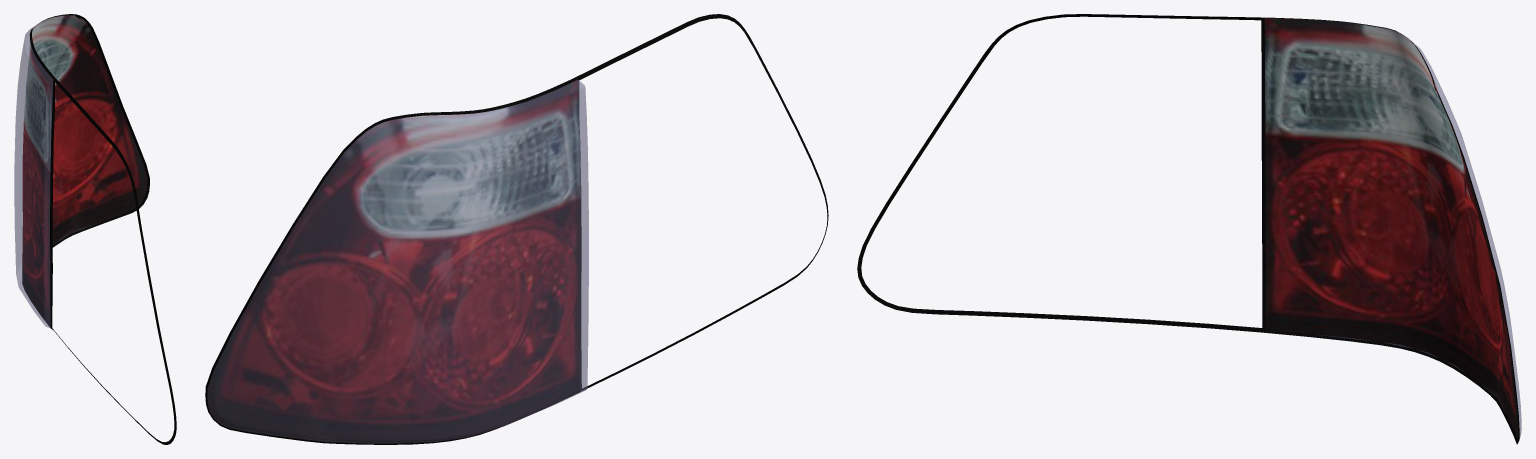
3 views of the same model, side by side, from view 1: azimuth 30°, elevation 25°; view 2: azimuth 150°, elevation 25°; view 3: azimuth 270°, elevation 25° (orthographic). The views are drawn at different scales.
Parts seen in each view (by area): view 1: H124_541C_L_1_N_H124_541C_L, H124_541C_L_H124_541C_L_2_DTaSI, H124_541C_L_H124_541C_L_3_D; view 2: H124_541C_L_H124_541C_L_2_DTaSI, H124_541C_L_1_N_H124_541C_L, H124_541C_L_H124_541C_L_3_D; view 3: H124_541C_L_1_N_H124_541C_L, H124_541C_L_H124_541C_L_3_D, H124_541C_L_H124_541C_L_2_DTaSI.
Boxes of the visible parts, x1,y1,x2,y2 form: H124_541C_L_1_N_H124_541C_L: (22,15,147,327); H124_541C_L_H124_541C_L_2_DTaSI: (14,27,89,327); H124_541C_L_H124_541C_L_3_D: (29,14,176,444); H124_541C_L_H124_541C_L_2_DTaSI: (207,80,588,443); H124_541C_L_1_N_H124_541C_L: (207,80,581,443); H124_541C_L_H124_541C_L_3_D: (205,14,828,444); H124_541C_L_1_N_H124_541C_L: (1264,18,1517,439); H124_541C_L_H124_541C_L_3_D: (857,14,1519,444); H124_541C_L_H124_541C_L_2_DTaSI: (1330,36,1521,438).
Size of the model in its own units: 26.69 by 27.79 by 51.64.
